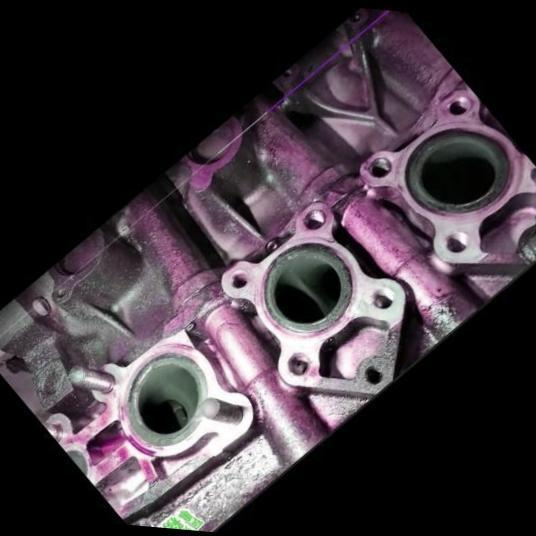hole: (278, 344, 316, 382), (362, 278, 399, 315), (436, 222, 473, 258), (360, 148, 396, 184), (440, 86, 475, 122), (295, 200, 330, 235), (222, 264, 251, 292)
